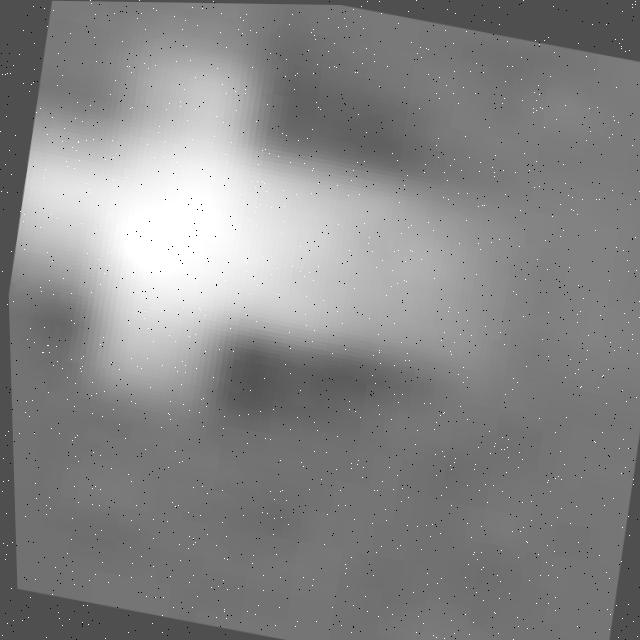person: (2, 49, 505, 404)
